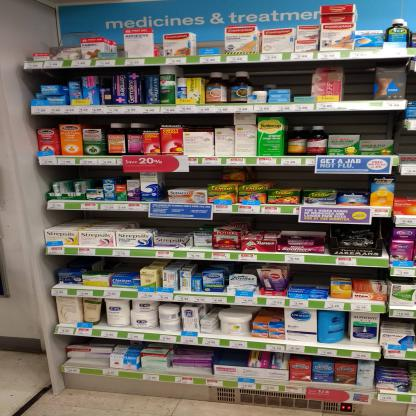Void: (326, 113, 398, 134), (48, 211, 145, 226), (256, 64, 310, 86), (250, 167, 309, 183), (45, 167, 123, 179), (314, 176, 370, 191), (351, 64, 374, 98), (295, 265, 328, 288), (91, 256, 136, 272), (214, 349, 245, 365), (162, 218, 190, 235), (173, 172, 206, 186), (186, 116, 216, 131), (34, 72, 67, 85)
